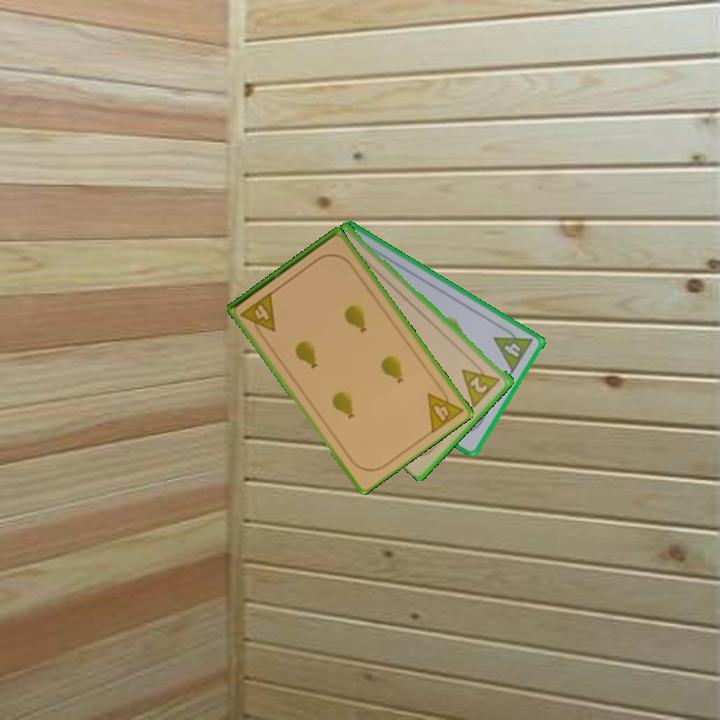2p: (458, 357, 503, 409)
4p: (490, 322, 536, 376), (424, 380, 466, 436), (237, 289, 279, 341)
